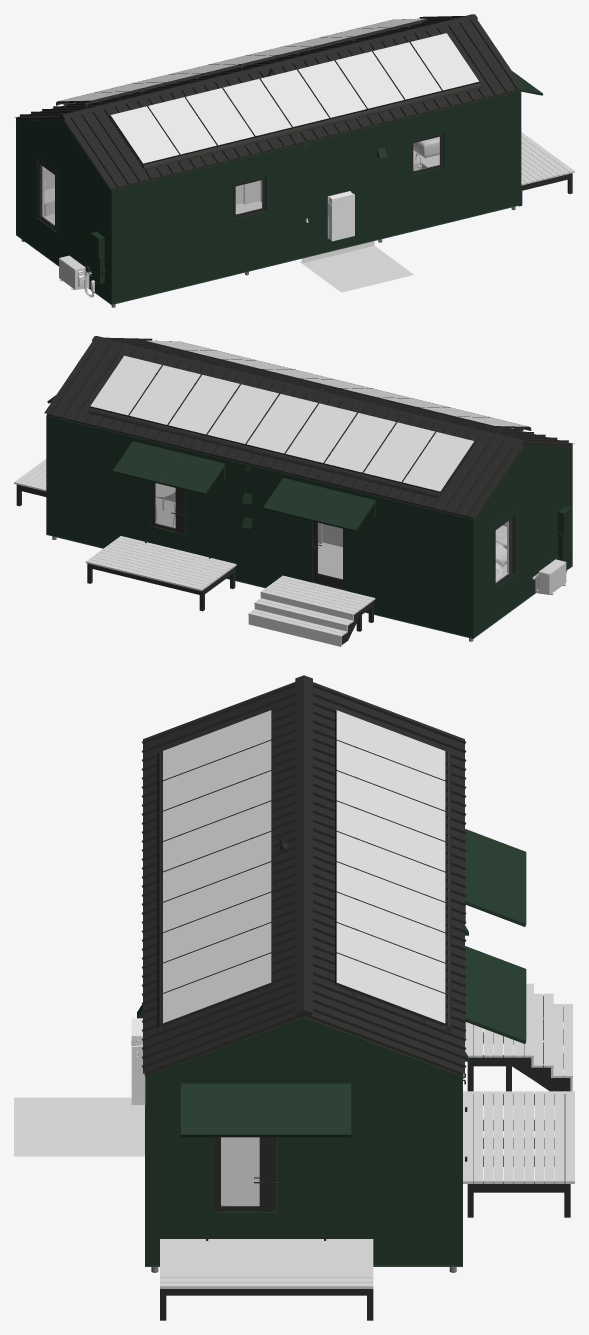
3 renders of one model, top to bottom at view 1: azimuth 30°, elevation 25°; view 2: azimuth 150°, elevation 25°; view 3: azimuth 270°, elevation 25°, orthographic. The views are drawn at different scales.
Visible parts, largest first — view 1: Wall_e_1B, SP_Right_1B, Roof_1B, SP_Left_1B, Tesla_shadow, Glass_1B, Shield_Right_1B, Deck_Left_1B, Frame_DW_1B, Window_1B, Tesla_powerwall, Frame_Around_1B (+9 smaller); view 2: Wall_e_FrontWindow_1B, SP_Left_1B, Roof_1B, Wall_e_1B, Deck_1B, Deck_Front_1B, SP_Right_1B, Awning_Front_1B, Awning_DoorEnt_Front_1B, Shield_Left_1B, Frame_Around_1B, Floor_1B (+17 smaller); view 3: Roof_1B, Wall_e_LeftDoor_1B, SP_Right_1B, SP_Left_1B, Deck_Left_1B, Deck_Front_1B, Awning_Left_1B, Tesla_shadow, Wall_e_LefttWindow_1B, Deck_1B, Awning_DoorEnt_Front_1B, Awning_Front_1B (+13 smaller).
Part boxes in pixels (bbox=[...]): Wall_e_1B: bbox=[18, 91, 518, 303]; SP_Right_1B: bbox=[110, 32, 479, 164]; Roof_1B: bbox=[14, 14, 523, 190]; SP_Left_1B: bbox=[57, 18, 427, 103]; Tesla_shadow: bbox=[300, 241, 413, 292]; Glass_1B: bbox=[40, 137, 440, 226]; Shield_Right_1B: bbox=[142, 83, 481, 170]; Deck_Left_1B: bbox=[521, 132, 574, 185]; Frame_DW_1B: bbox=[35, 129, 446, 235]; Window_1B: bbox=[37, 133, 443, 230]; Tesla_powerwall: bbox=[327, 191, 354, 241]; Frame_Around_1B: bbox=[16, 90, 521, 304]; Wall_e_FrontWindow_1B: bbox=[49, 416, 470, 637]; SP_Left_1B: bbox=[89, 355, 474, 493]; Roof_1B: bbox=[44, 336, 574, 519]; Wall_e_1B: bbox=[475, 446, 570, 636]; Deck_1B: bbox=[248, 575, 375, 646]; Deck_Front_1B: bbox=[85, 536, 236, 591]; SP_Right_1B: bbox=[144, 340, 529, 428]; Awning_Front_1B: bbox=[112, 441, 225, 494]; Awning_DoorEnt_Front_1B: bbox=[263, 478, 375, 531]; Shield_Left_1B: bbox=[87, 407, 440, 498]; Frame_Around_1B: bbox=[46, 415, 572, 638]; Floor_1B: bbox=[155, 497, 506, 579]; Roof_1B: bbox=[142, 675, 466, 1076]; Wall_e_LeftDoor_1B: bbox=[150, 1017, 457, 1265]; SP_Right_1B: bbox=[162, 709, 272, 1026]; SP_Left_1B: bbox=[335, 709, 445, 1026]; Deck_Left_1B: bbox=[160, 1239, 373, 1288]; Deck_Front_1B: bbox=[463, 1091, 574, 1183]; Awning_Left_1B: bbox=[181, 1083, 351, 1137]; Tesla_shadow: bbox=[14, 1097, 144, 1156]; Wall_e_LefttWindow_1B: bbox=[212, 1137, 319, 1238]; Deck_1B: bbox=[465, 983, 572, 1091]; Awning_DoorEnt_Front_1B: bbox=[465, 829, 526, 926]; Awning_Front_1B: bbox=[465, 946, 526, 1043].
Bounding box in the file's own units: 13.29 × 4.26 × 8.03.
